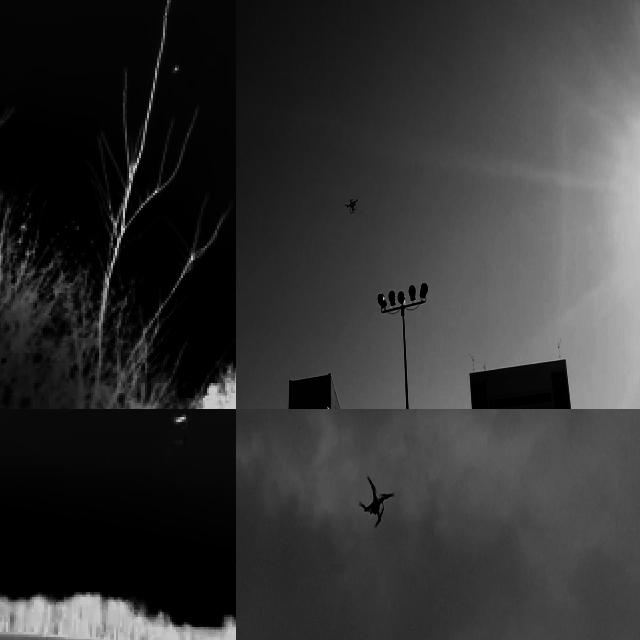0: (169, 59, 189, 82)
1: (163, 409, 197, 440)
drone: (354, 474, 395, 525), (344, 191, 360, 219)
